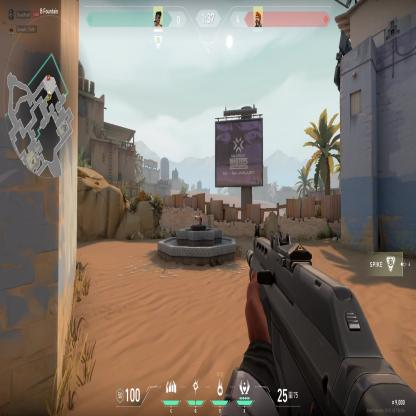enemy: (197, 211, 203, 226)
